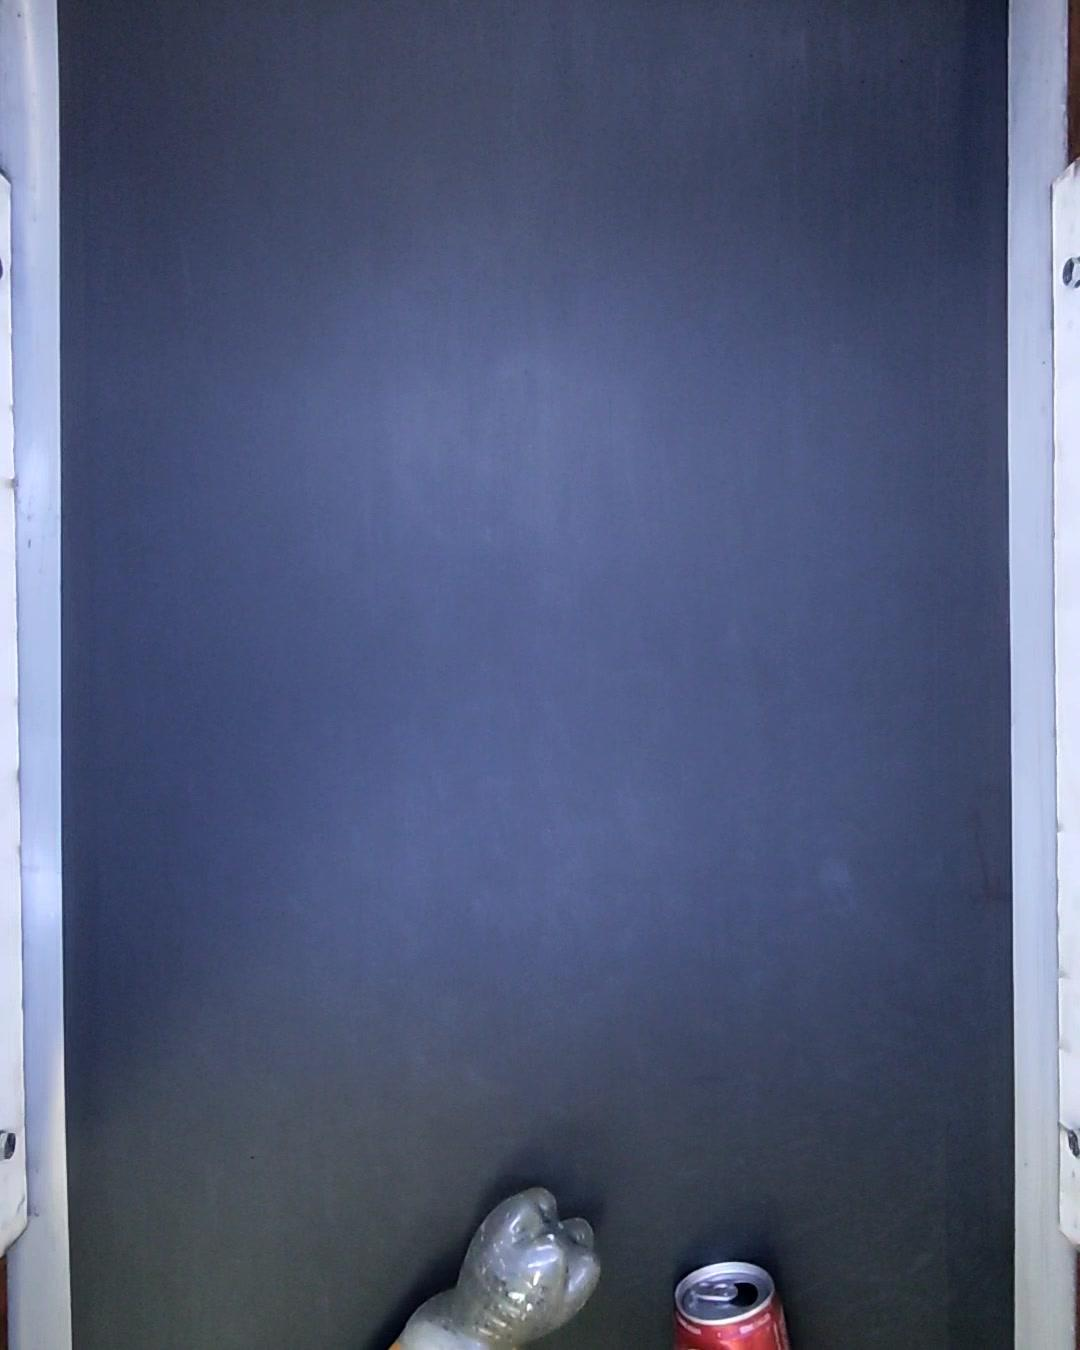Drankblikjes: (672, 1263, 789, 1350)
Drankflessen - 1-2 liter: (378, 1189, 607, 1350)
